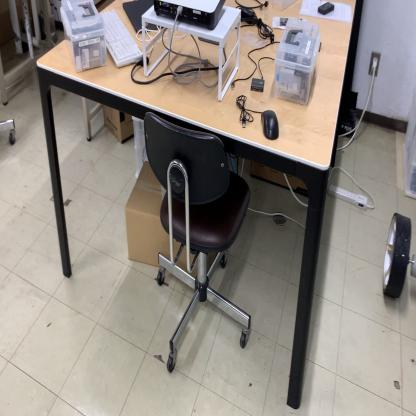chair: (141, 111, 253, 373)
